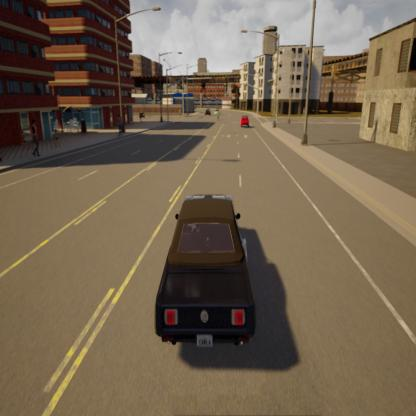Cars: (153, 180, 265, 362), (239, 113, 251, 132), (202, 107, 213, 122), (214, 106, 221, 116)
Pedestrian: (29, 116, 42, 161), (51, 121, 62, 152), (19, 124, 28, 154), (116, 115, 123, 142), (138, 109, 143, 123), (178, 107, 182, 121), (217, 110, 220, 120)
